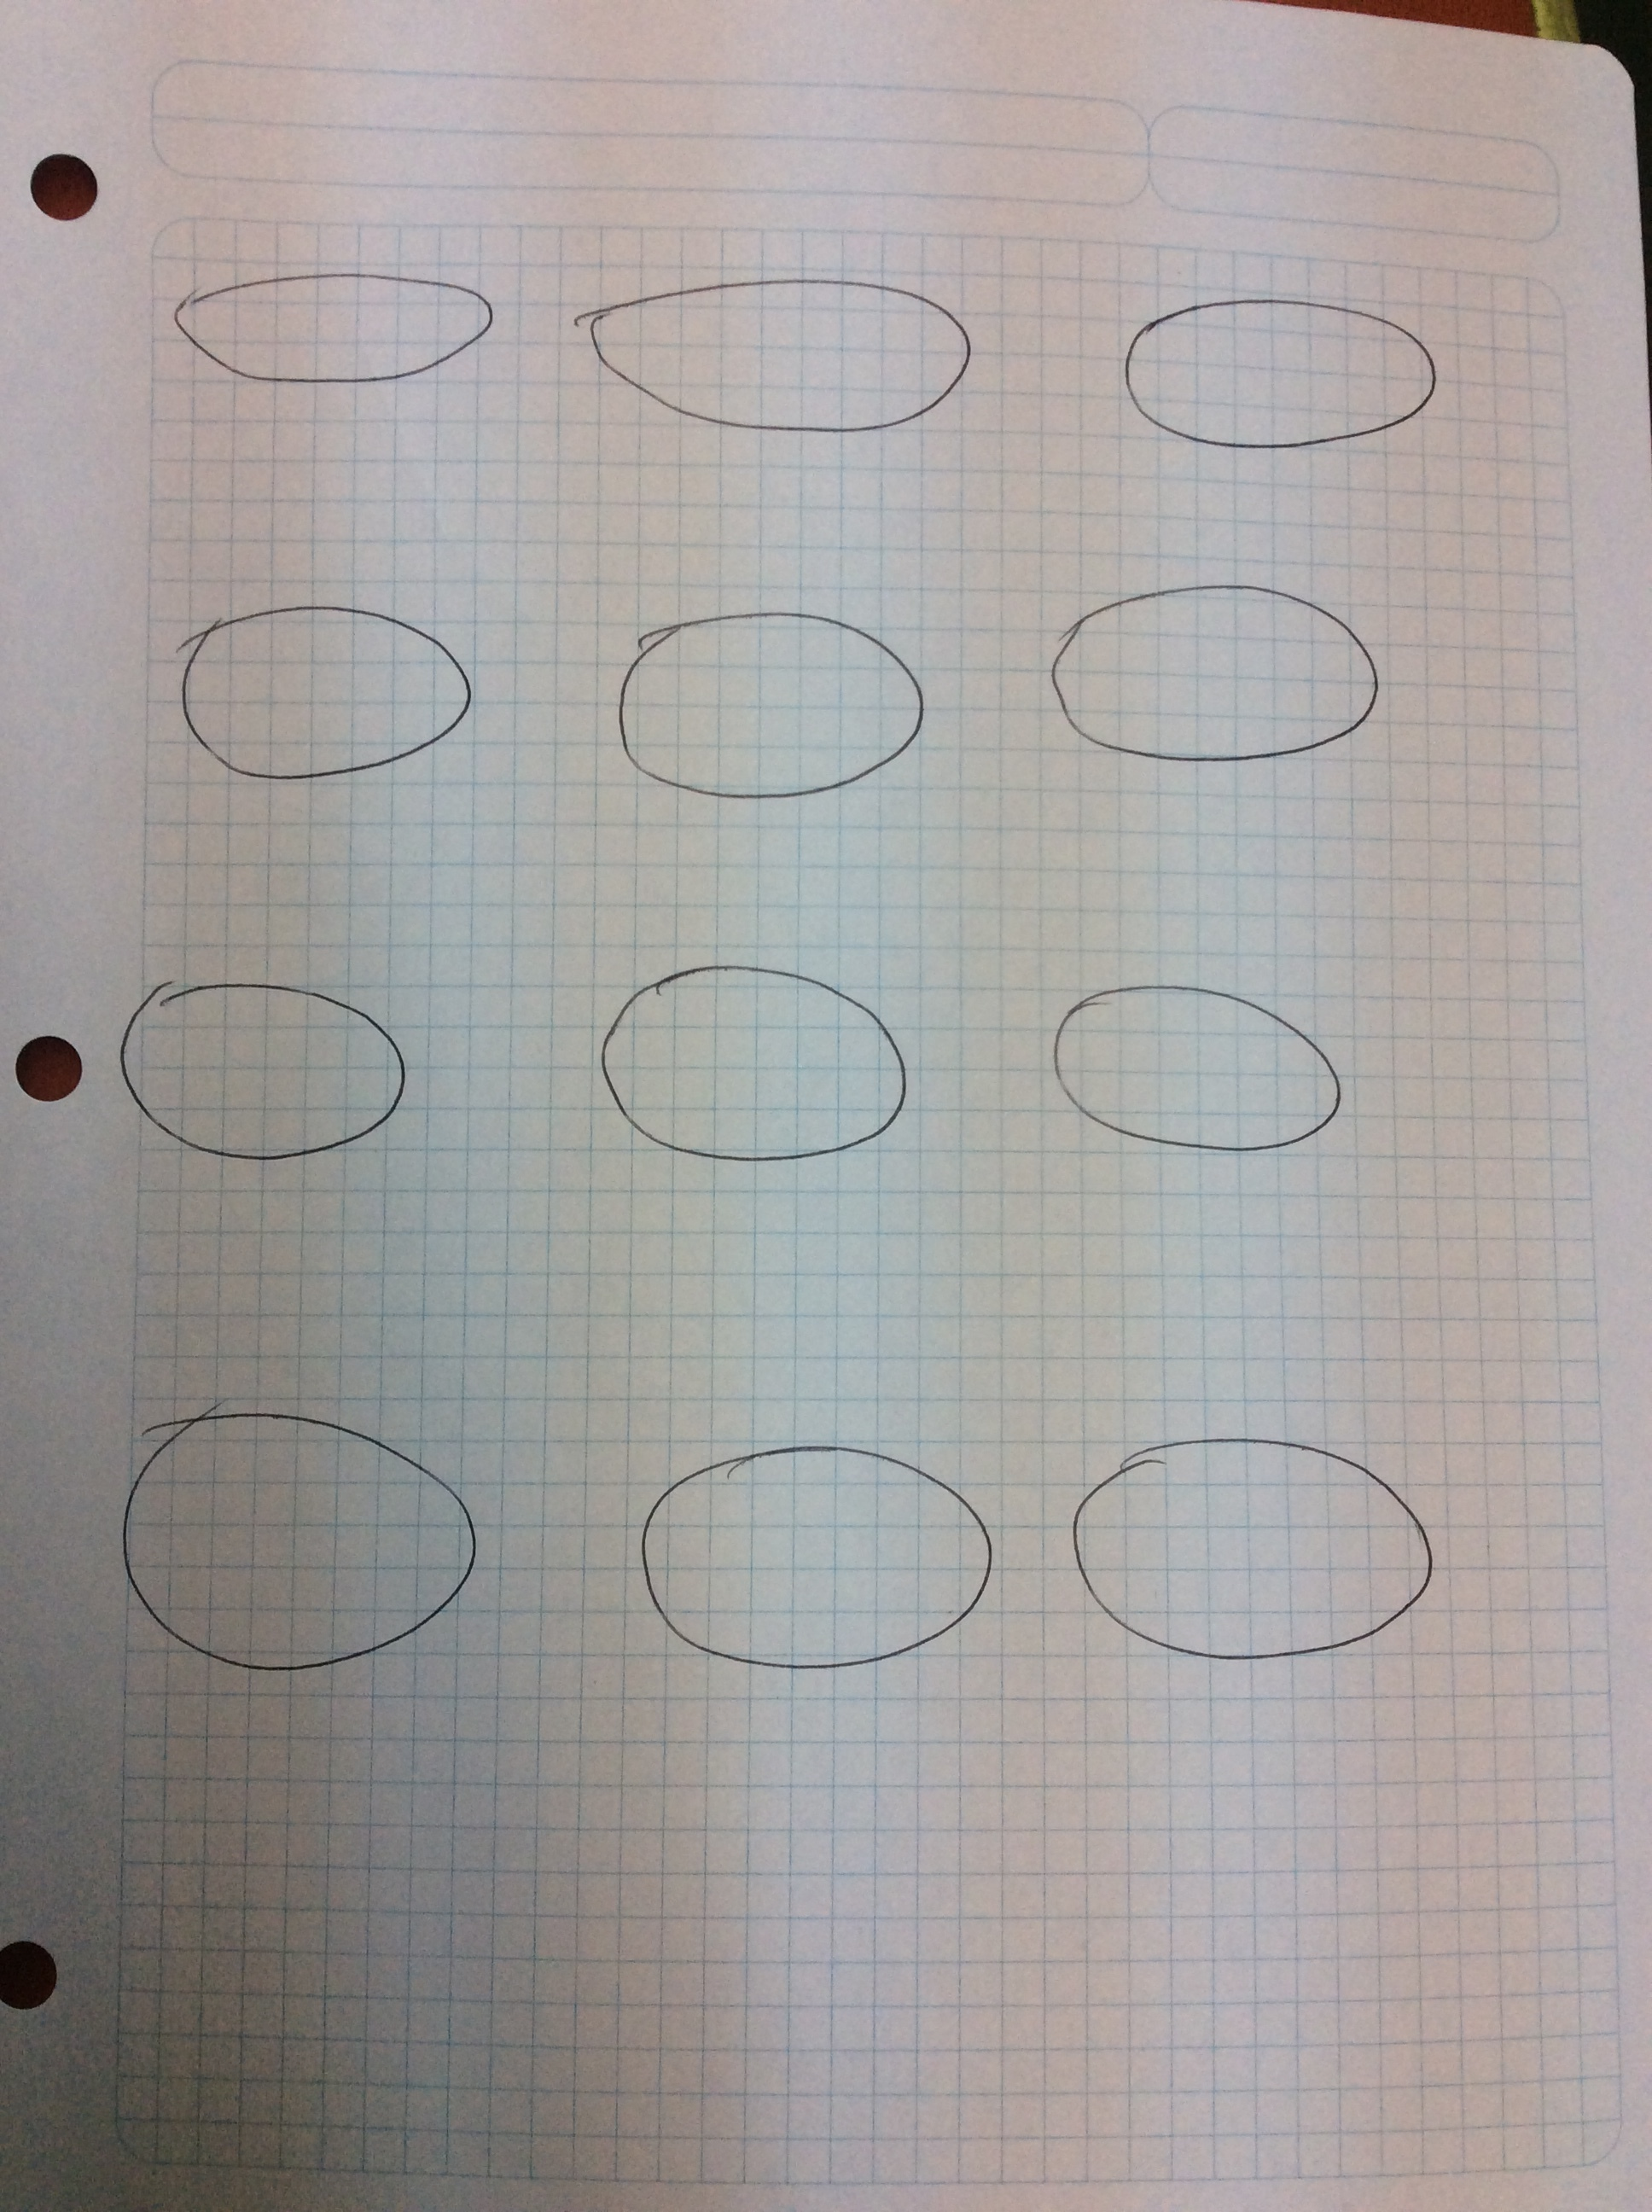start_end: (69, 1372, 503, 1714), (1050, 1393, 1459, 1690), (616, 1410, 1008, 1697), (559, 219, 1001, 458), (566, 574, 958, 826), (555, 932, 947, 1181), (1019, 540, 1400, 786), (1015, 932, 1364, 1188), (1086, 260, 1473, 484), (135, 578, 496, 808), (104, 942, 432, 1185), (153, 226, 510, 427)
